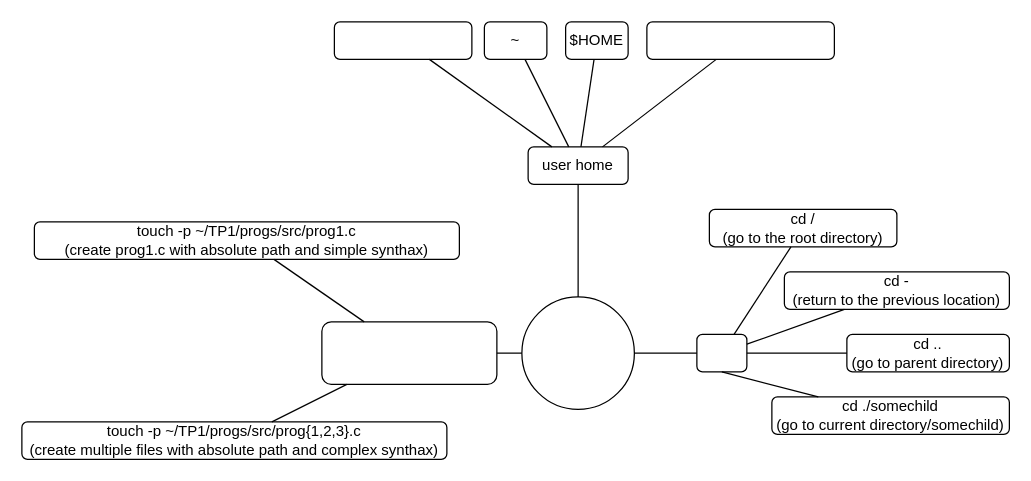
Some shapes in this 1031 by 481 pixel diagram are drawn without their labels. The box of each missing label's shape, as (x1, y1, x2, y2) in pixels:
/home/username: (333, 21, 472, 59)
Arborescence: (521, 296, 634, 409)
cd: (696, 333, 747, 372)
cd (no arguments passed): (646, 21, 834, 59)
mkdir (create directory) touch (create file): (321, 321, 497, 384)
